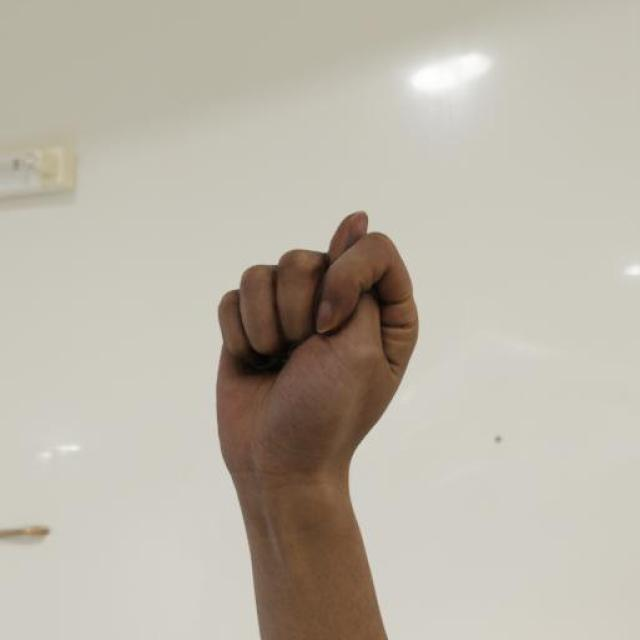T: (204, 209, 425, 477)
